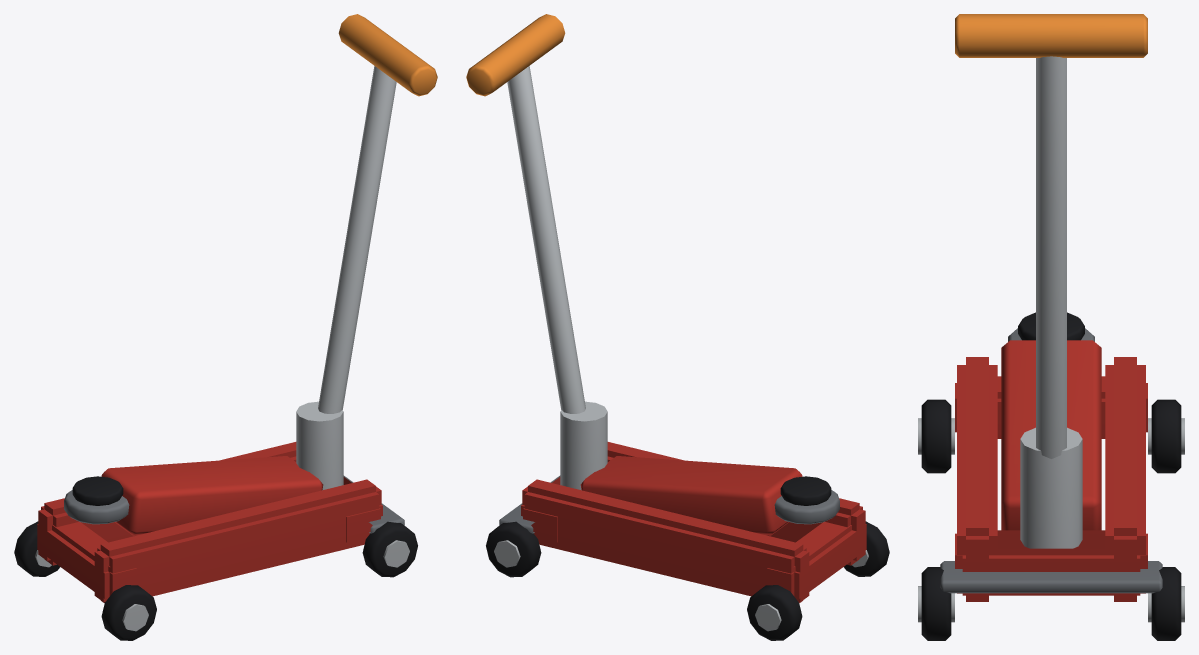
The model's file is SM_FloorJack_01.glb.
3 views of the same model, side by side, from view 1: azimuth 30°, elevation 25°; view 2: azimuth 150°, elevation 25°; view 3: azimuth 270°, elevation 25° (orthographic). The views are drawn at different scales.
Visible parts, largest first — view 1: SM_FloorJack_01; view 2: SM_FloorJack_01; view 3: SM_FloorJack_01.
Part boxes in pixels (box(x1,y1,x2,y2)): SM_FloorJack_01: box(14, 14, 437, 640); SM_FloorJack_01: box(466, 14, 889, 640); SM_FloorJack_01: box(918, 14, 1184, 640).
Size of the model in its own units: 0.7 by 0.9635 by 0.36.
Materials: 1 (1 with a texture image).
